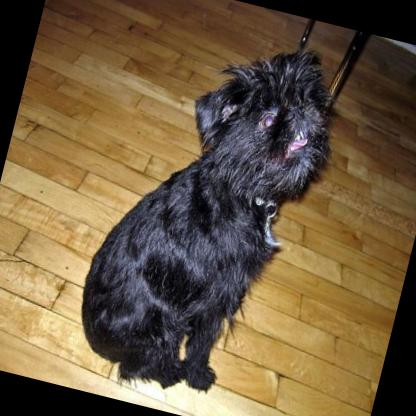affenpinscher: (62, 7, 352, 416)
